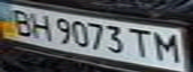0: (69, 18, 90, 48)
3: (103, 22, 127, 56)
7: (84, 20, 106, 52)
9: (51, 15, 75, 45)
B: (3, 6, 39, 37)
H: (24, 10, 54, 42)
M: (148, 29, 187, 63)
T: (127, 26, 157, 60)
